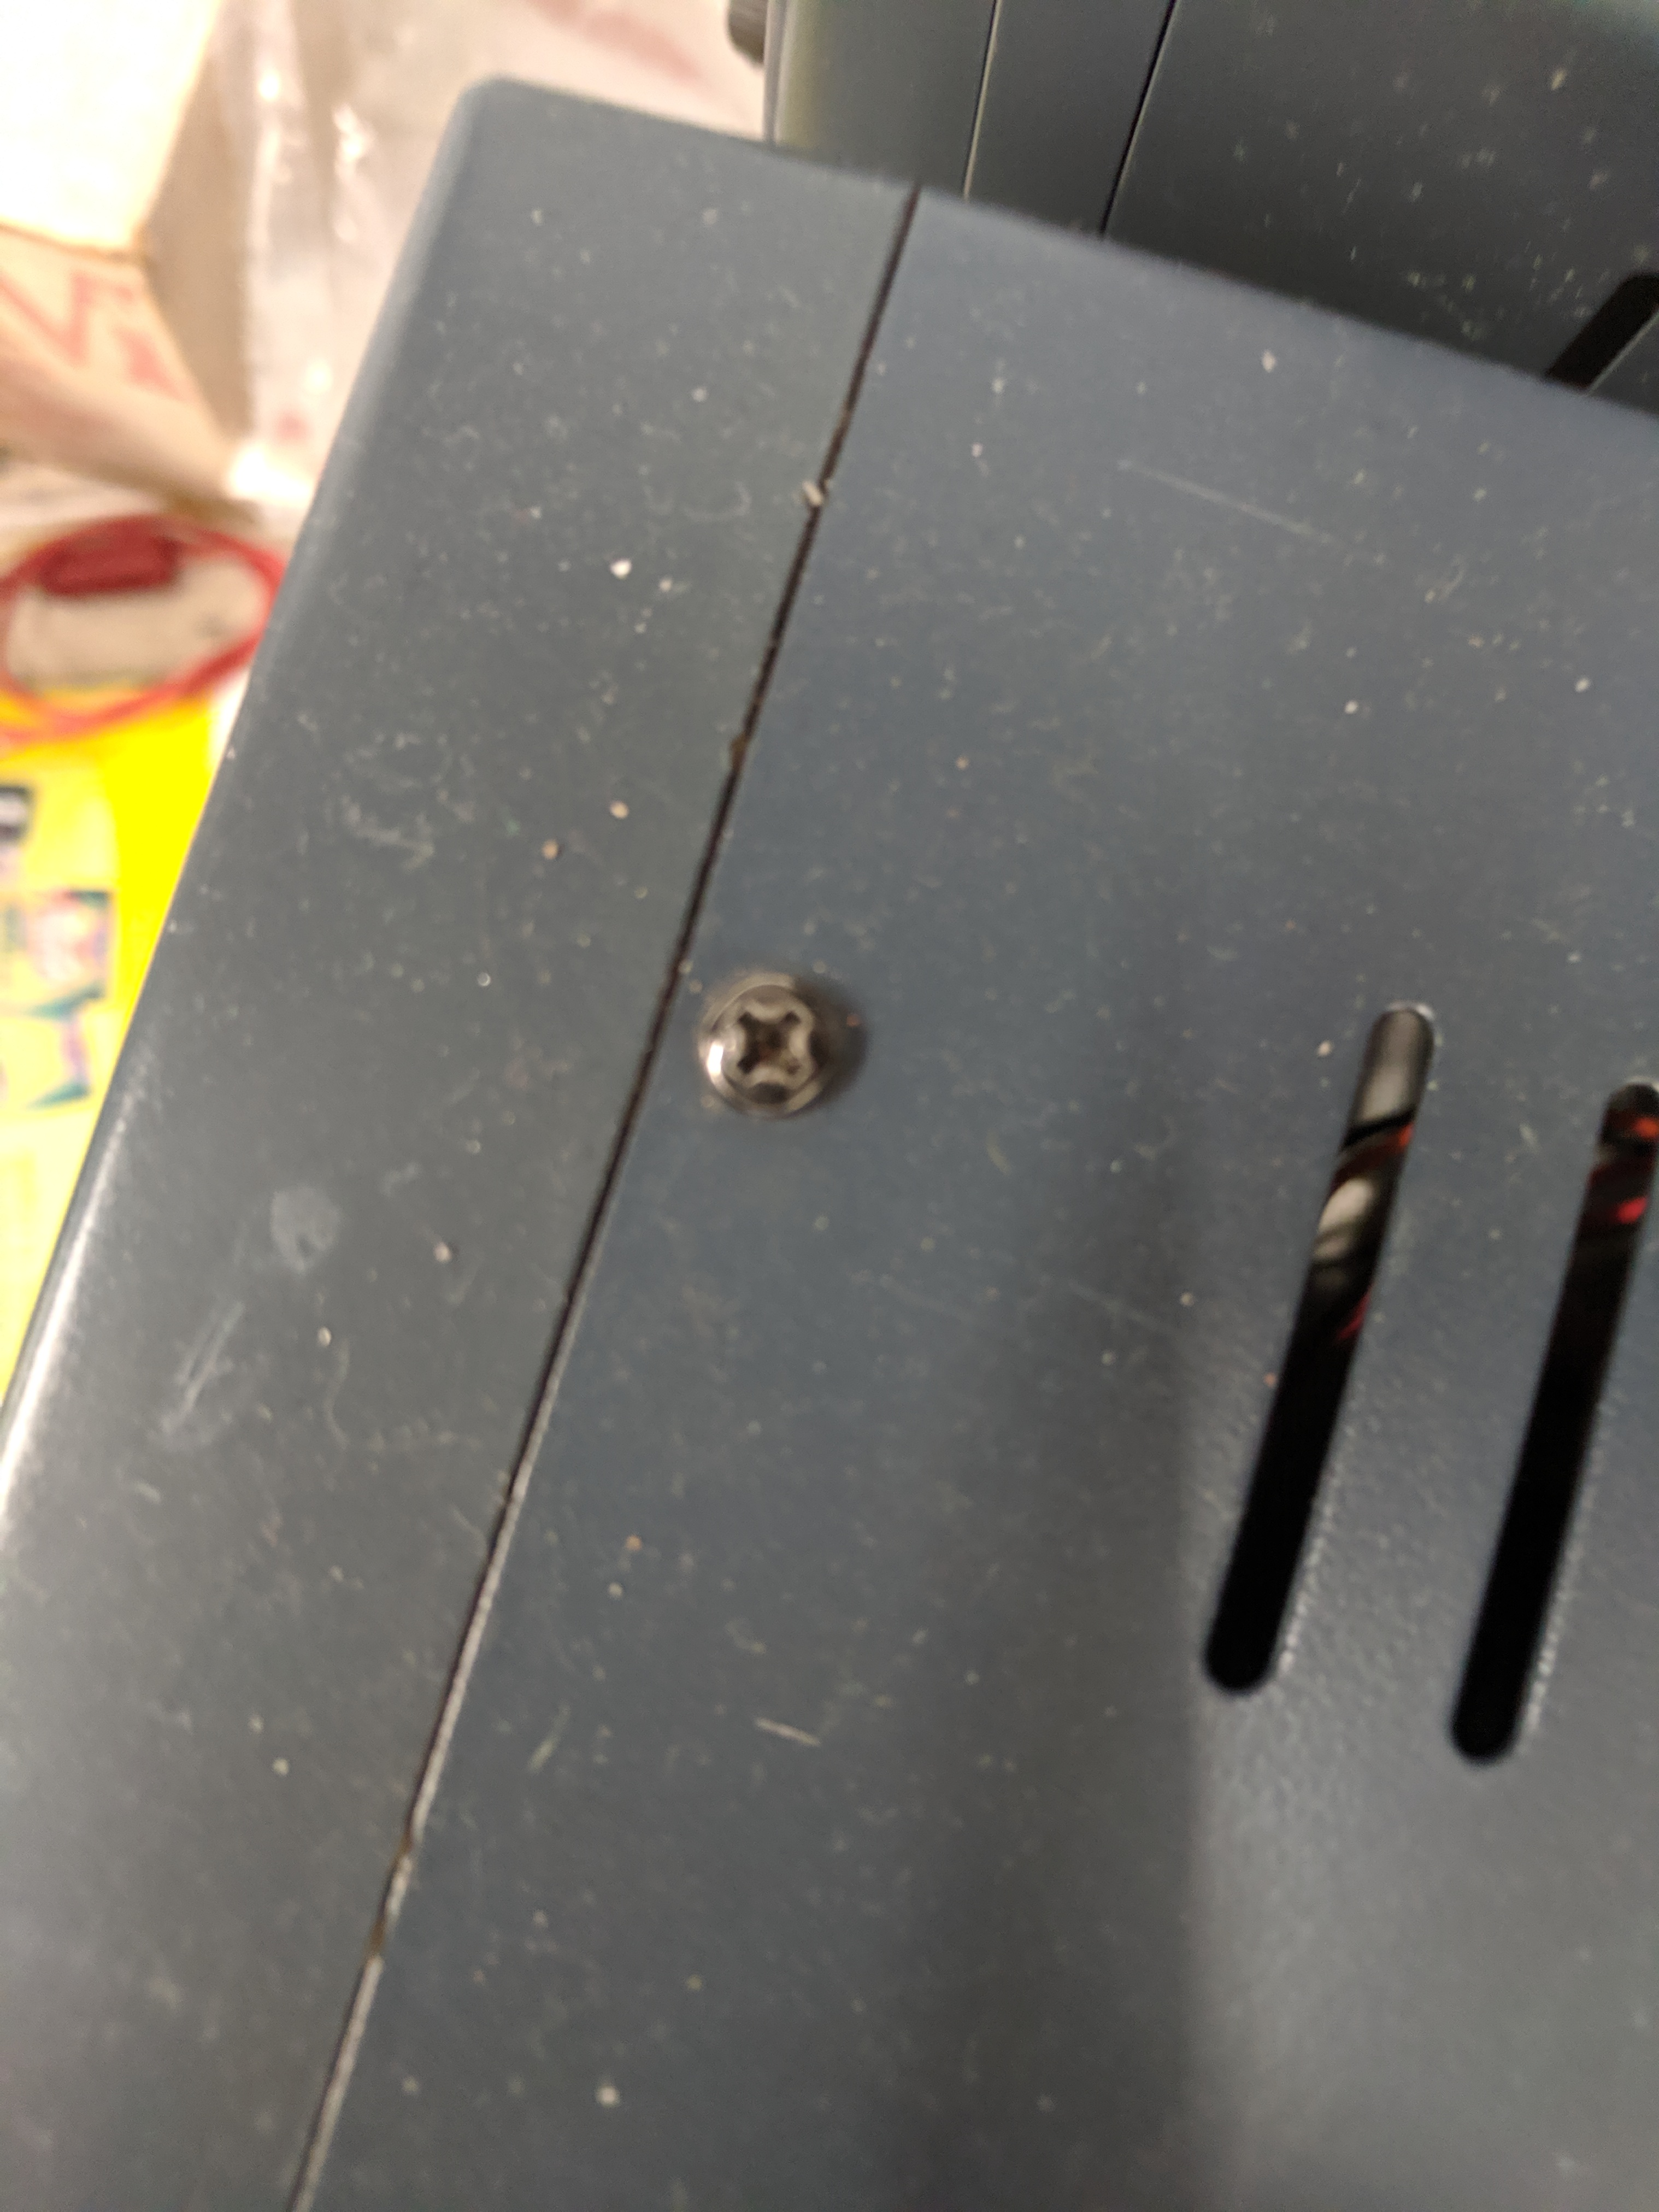cross_recessed_screw: (687, 956, 850, 1123)
